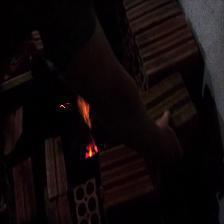fire: (52, 89, 108, 166)
